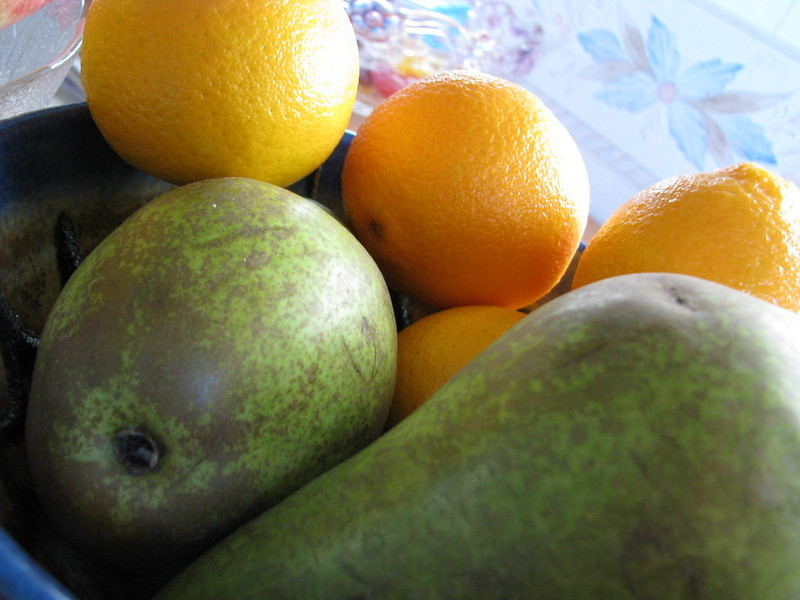orange: (338, 68, 581, 309), (80, 7, 347, 187), (584, 154, 800, 319)
